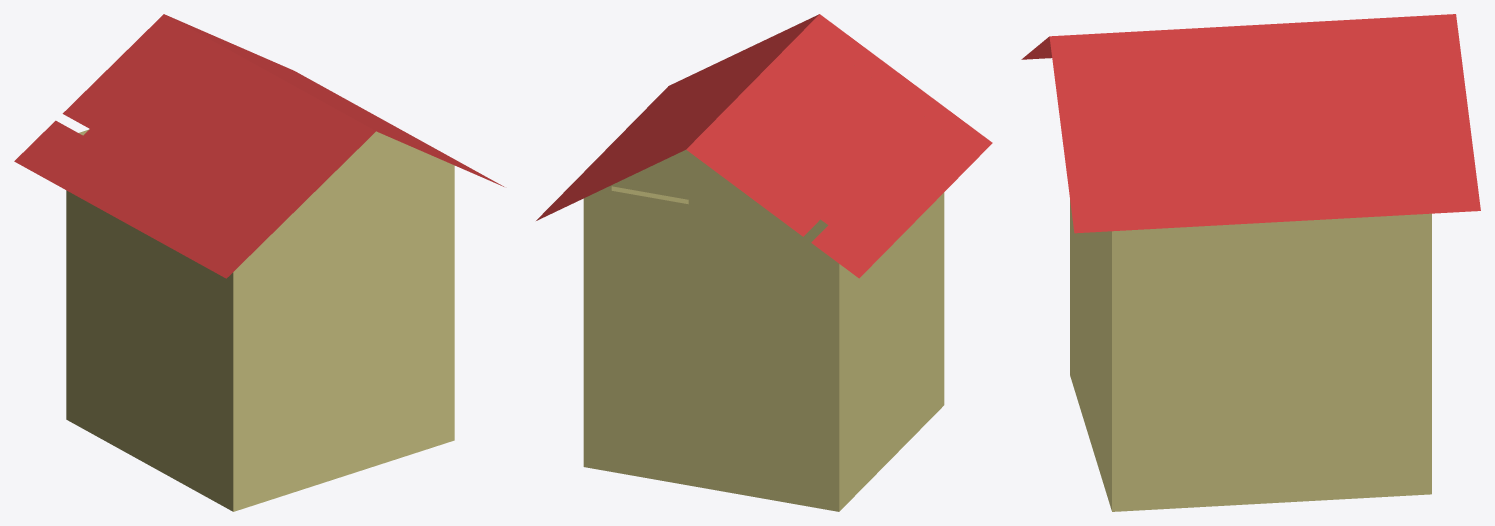
3 views of the same model, side by side, from view 1: azimuth 30°, elevation 25°; view 2: azimuth 150°, elevation 25°; view 3: azimuth 270°, elevation 25° (orthographic). The views are drawn at different scales.
Size of the model in its own units: 7.95 by 7.89 by 7.87.
